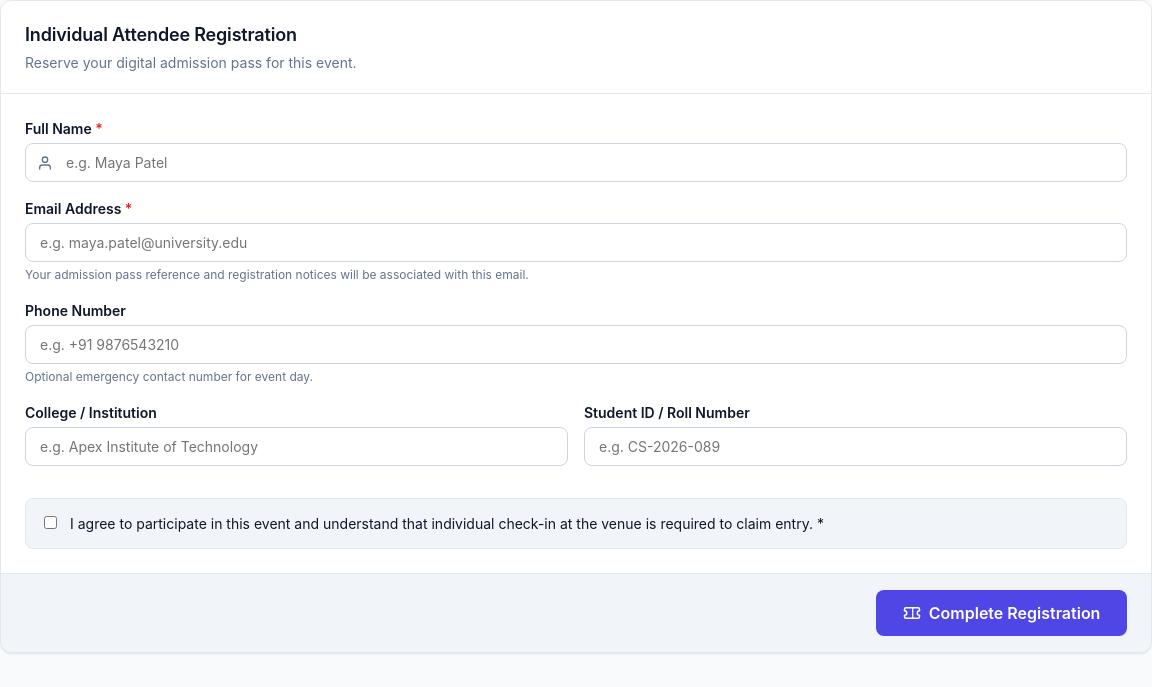
it: Public Event Registration Components › IndividualRegForm Component › handles capacity exhausted API errors cleanly
The image size is (1152, 687).
Type "Aarav Kumar" into the field labelled "Full Name" at (576, 162), box [25, 143, 1127, 182]
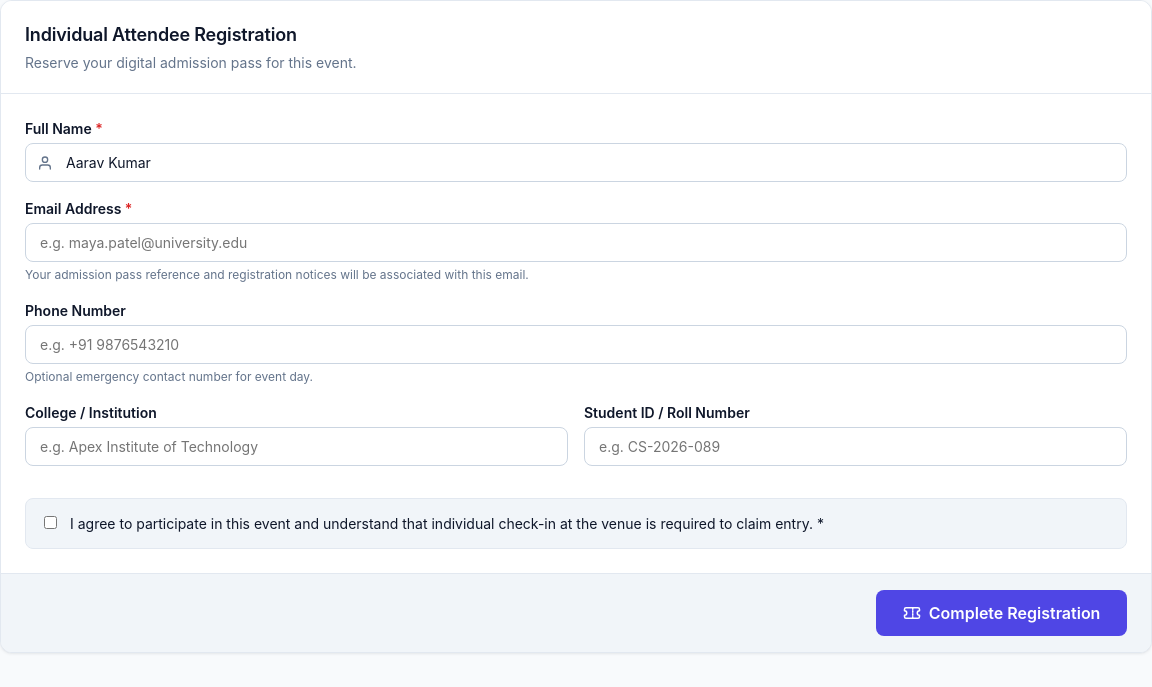
Type "aarav@university.edu" into the field labelled "Email Address" at (576, 242), box [25, 223, 1127, 262]
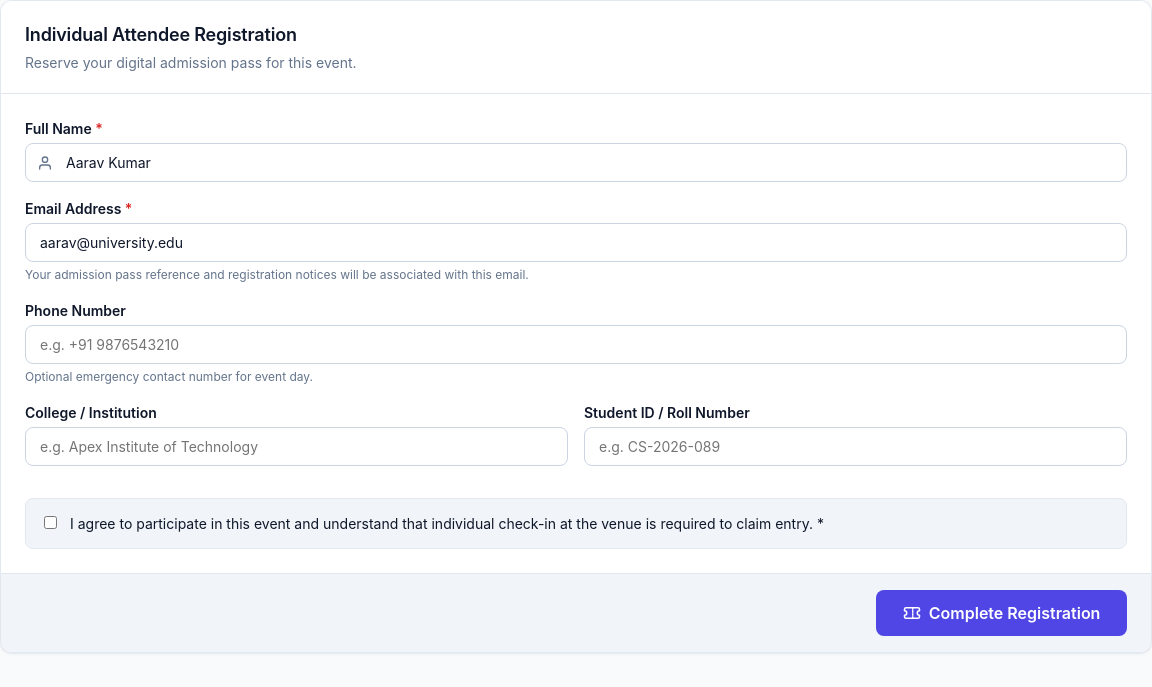
Click the checkbox at (50, 522), box [44, 516, 57, 529]
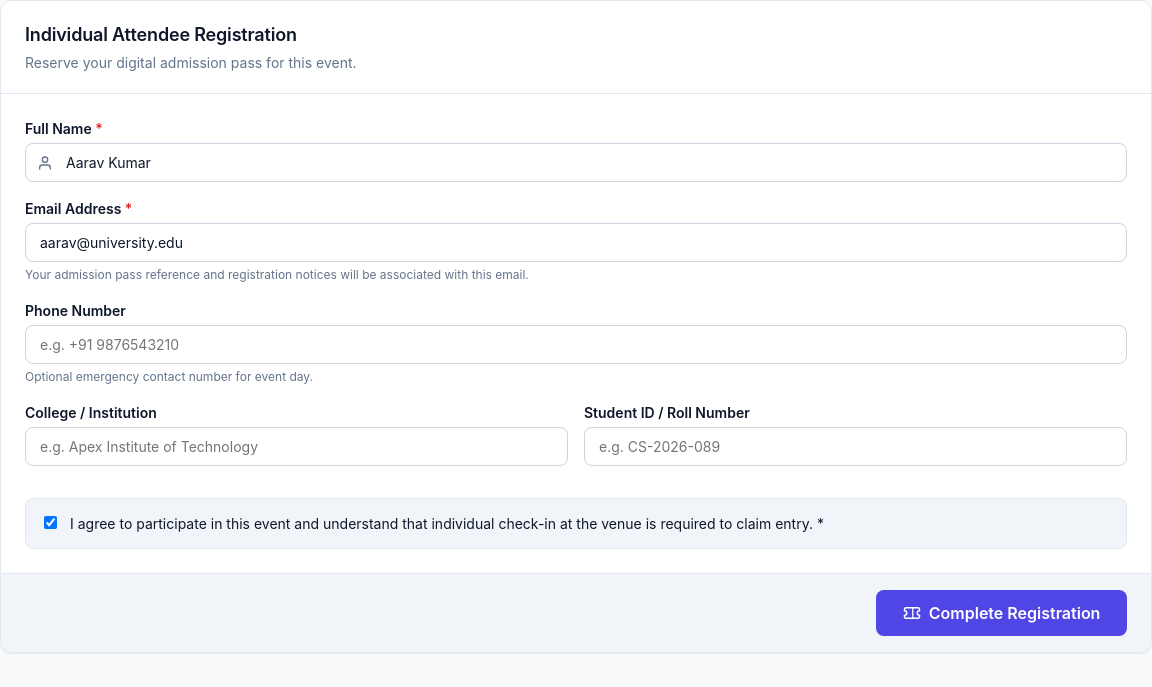
Click the button "Complete Registration" at (1002, 613), box [876, 590, 1127, 636]
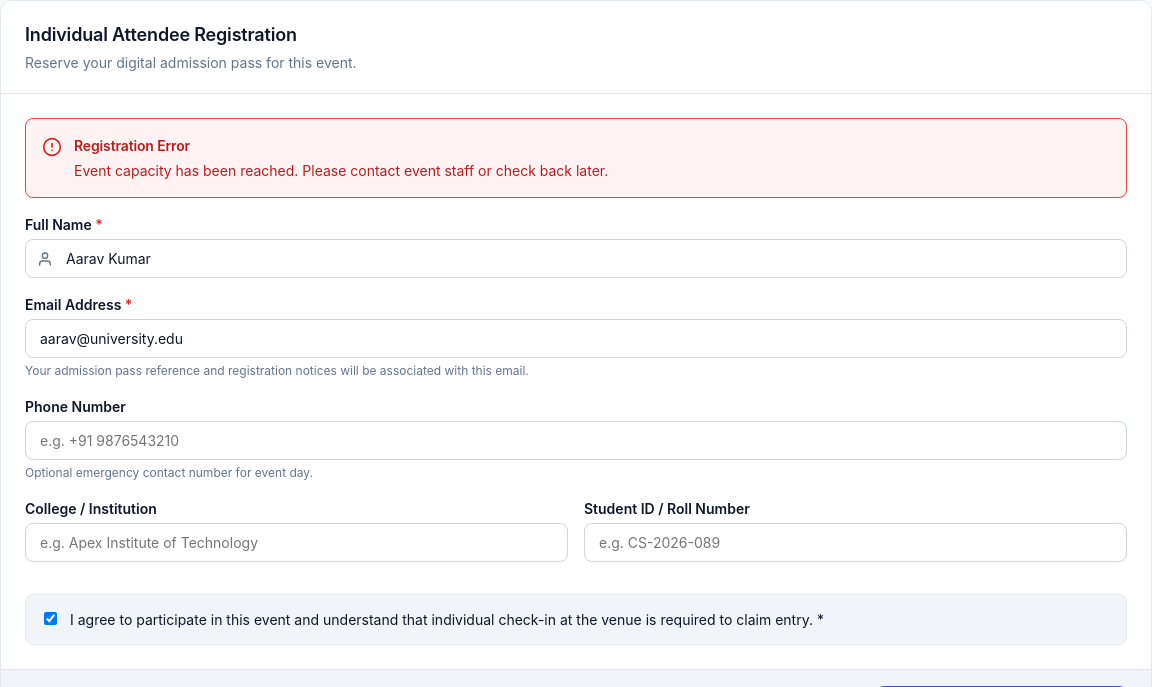
Expected: the text "Event capacity has been reached" is shown, [74, 162, 608, 179]
